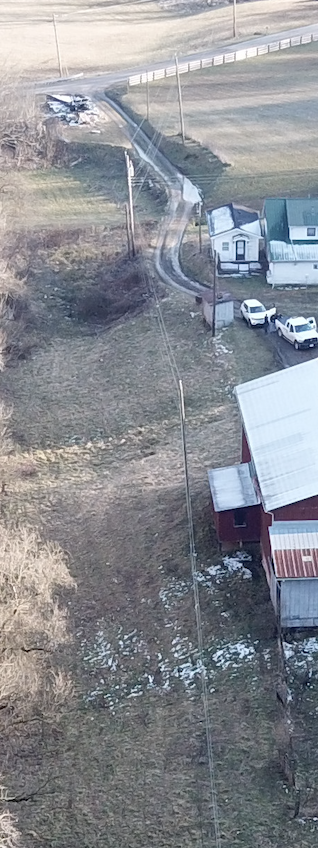pole: (174, 377, 204, 596), (106, 141, 159, 261), (152, 49, 212, 139), (38, 7, 79, 77), (222, 2, 245, 41)
